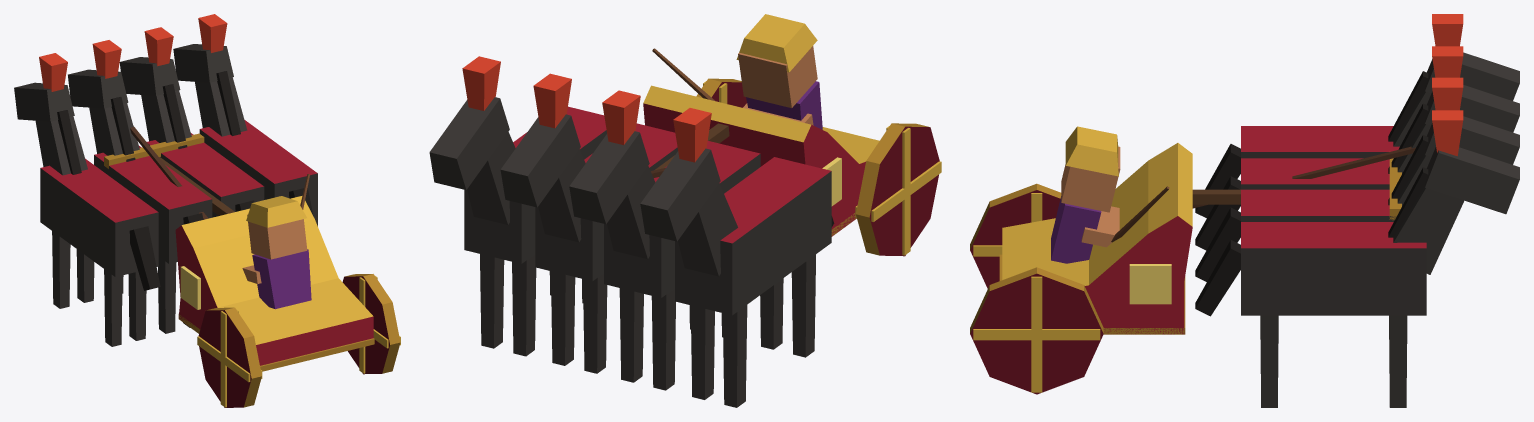
File: PR_Chariot.fbx
3 renders of one model, left to right at view 1: azimuth 30°, elevation 25°; view 2: azimuth 150°, elevation 25°; view 3: azimuth 270°, elevation 25°, orthographic. The views are drawn at different scales.
Parts seen in each view (by area): view 1: Car, Horse0, Horse3, Horse1, Horse2, Driver, WheelL, WheelR, Horse0LegsB, Horse0LegsF, Horse1LegsB; view 2: Horse0, Horse1, Horse3, Horse2, Car, WheelL, Driver, Horse0LegsF, Horse3LegsF, Horse1LegsF, Horse2LegsF, Horse0LegsB (+1 smaller); view 3: Horse3, Car, WheelR, Horse2, Horse0, Horse1, Driver, WheelL, Horse3LegsB, Horse3LegsF.
Part boxes in pixels (<box>): Car: <box>104,133,374,371</box>; Horse0: <box>14,53,160,290</box>; Horse3: <box>173,14,317,226</box>; Horse1: <box>68,40,212,263</box>; Horse2: <box>119,27,264,217</box>; Driver: <box>130,126,311,309</box>; WheelL: <box>197,307,262,407</box>; WheelR: <box>342,274,400,374</box>; Horse0LegsB: <box>104,269,146,346</box>; Horse0LegsF: <box>52,231,94,308</box>; Horse1LegsB: <box>158,257,190,333</box>; Horse0: <box>640,108,834,315</box>; Horse1: <box>569,90,760,297</box>; Horse3: <box>429,56,606,263</box>; Horse2: <box>500,73,677,281</box>; Car: <box>643,85,879,236</box>; WheelL: <box>855,123,941,256</box>; Driver: <box>651,14,822,177</box>; Horse0LegsF: <box>690,305,747,407</box>; Horse3LegsF: <box>480,254,536,356</box>; Horse1LegsF: <box>619,288,675,390</box>; Horse2LegsF: <box>551,271,607,373</box>; Horse0LegsB: <box>760,254,815,357</box>; Horse3: <box>1195,110,1519,316</box>; Car: <box>999,143,1401,334</box>; WheelR: <box>970,267,1103,394</box>; Horse2: <box>1195,77,1519,281</box>; Horse0: <box>1195,14,1519,218</box>; Horse1: <box>1195,46,1519,250</box>; Driver: <box>1051,126,1415,263</box>; WheelL: <box>970,183,1061,288</box>; Horse3LegsB: <box>1260,315,1278,407</box>; Horse3LegsF: <box>1389,315,1407,407</box>.
Bounding box in the file's own units: 2.34 × 4.44 × 2.52.
